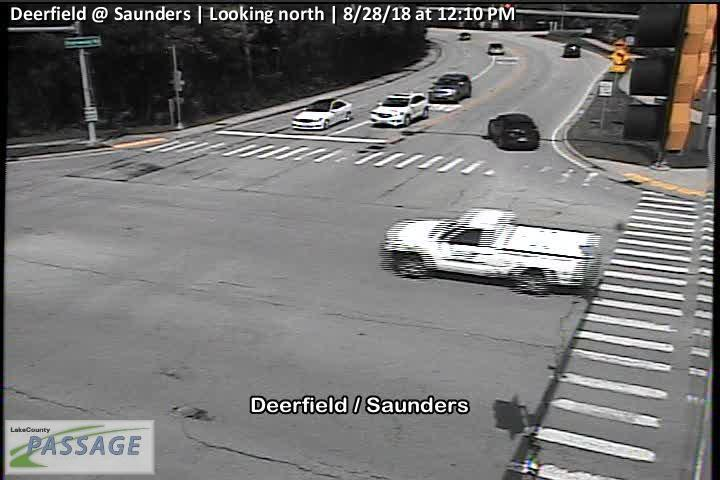SUV: (370, 91, 429, 126), (429, 74, 472, 104), (564, 43, 581, 58), (489, 43, 504, 55)
Sedan: (291, 97, 353, 131), (489, 114, 539, 151), (459, 32, 471, 39)
Truck: (384, 208, 602, 295)
